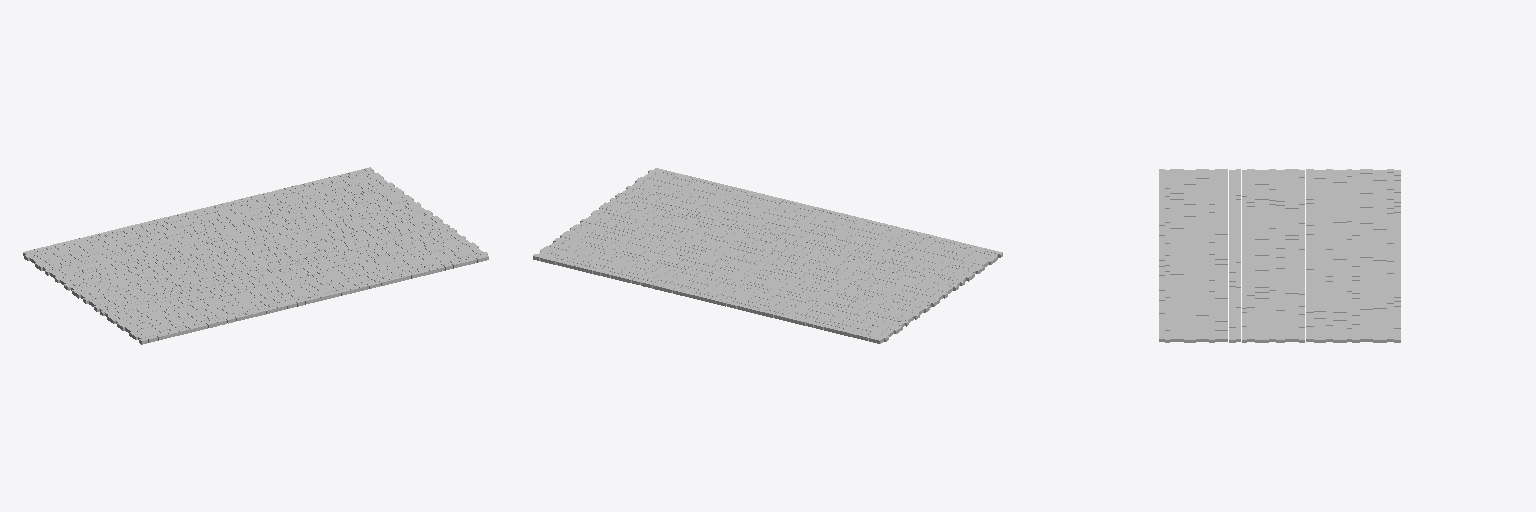
Rendered from titleFieldRock.obj.
3 views of the same model, side by side, from view 1: azimuth 30°, elevation 25°; view 2: azimuth 150°, elevation 25°; view 3: azimuth 270°, elevation 25° (orthographic).
Parts seen in each view (by area): view 1: Wall.001; view 2: Wall.001; view 3: Wall.001.
Part boxes in pixels (left/top/right/bottom): Wall.001: left=23, top=167, right=488, bottom=344; Wall.001: left=533, top=168, right=1002, bottom=343; Wall.001: left=1159, top=169, right=1400, bottom=342.
Bounding box in the file's own units: 100 × 1 × 60.